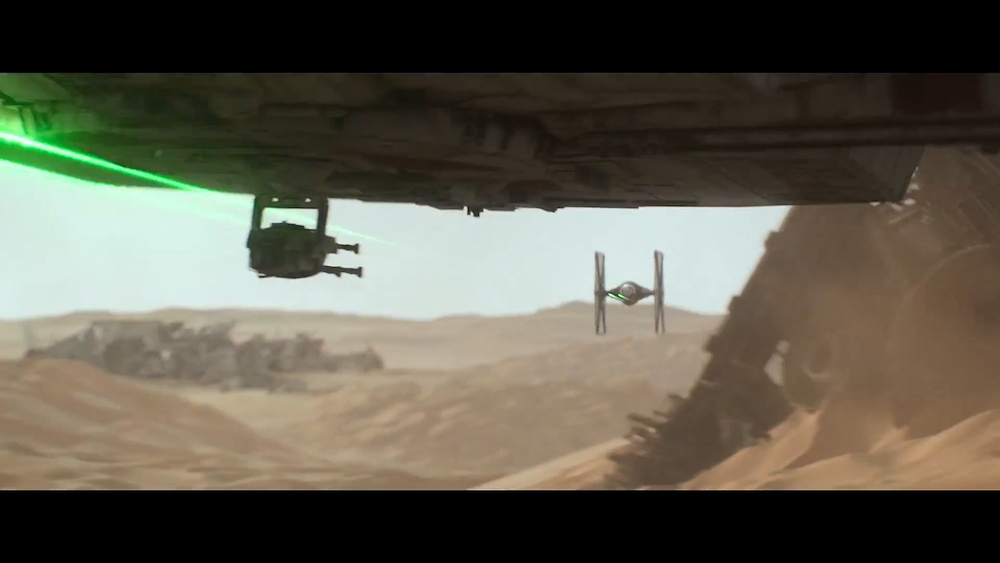Tie Fighter: (589, 249, 666, 340)
